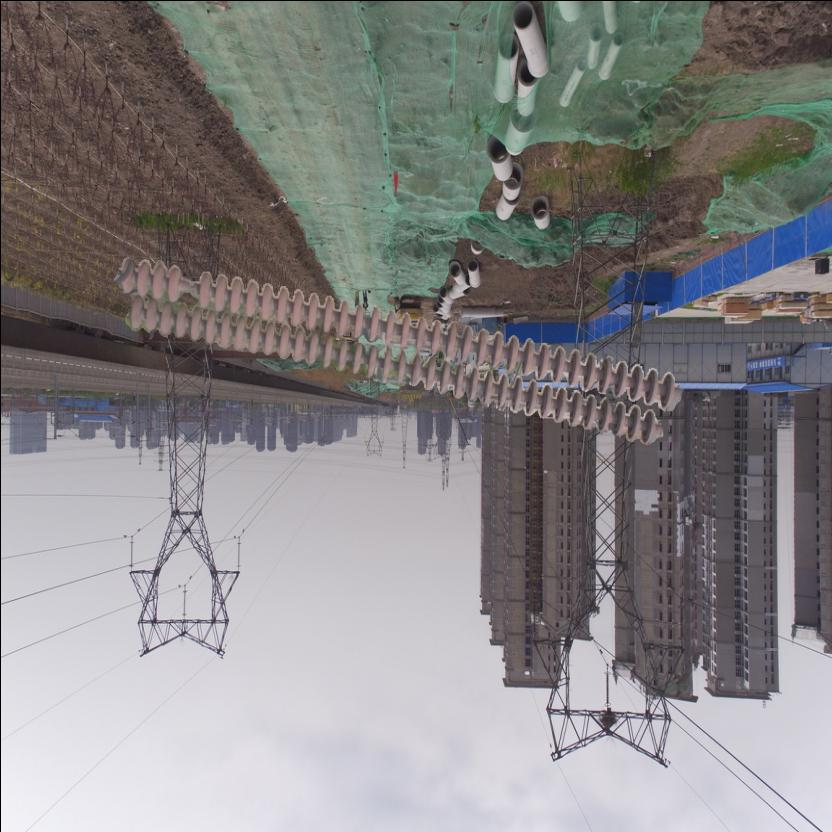defect: (164, 264, 217, 311)
